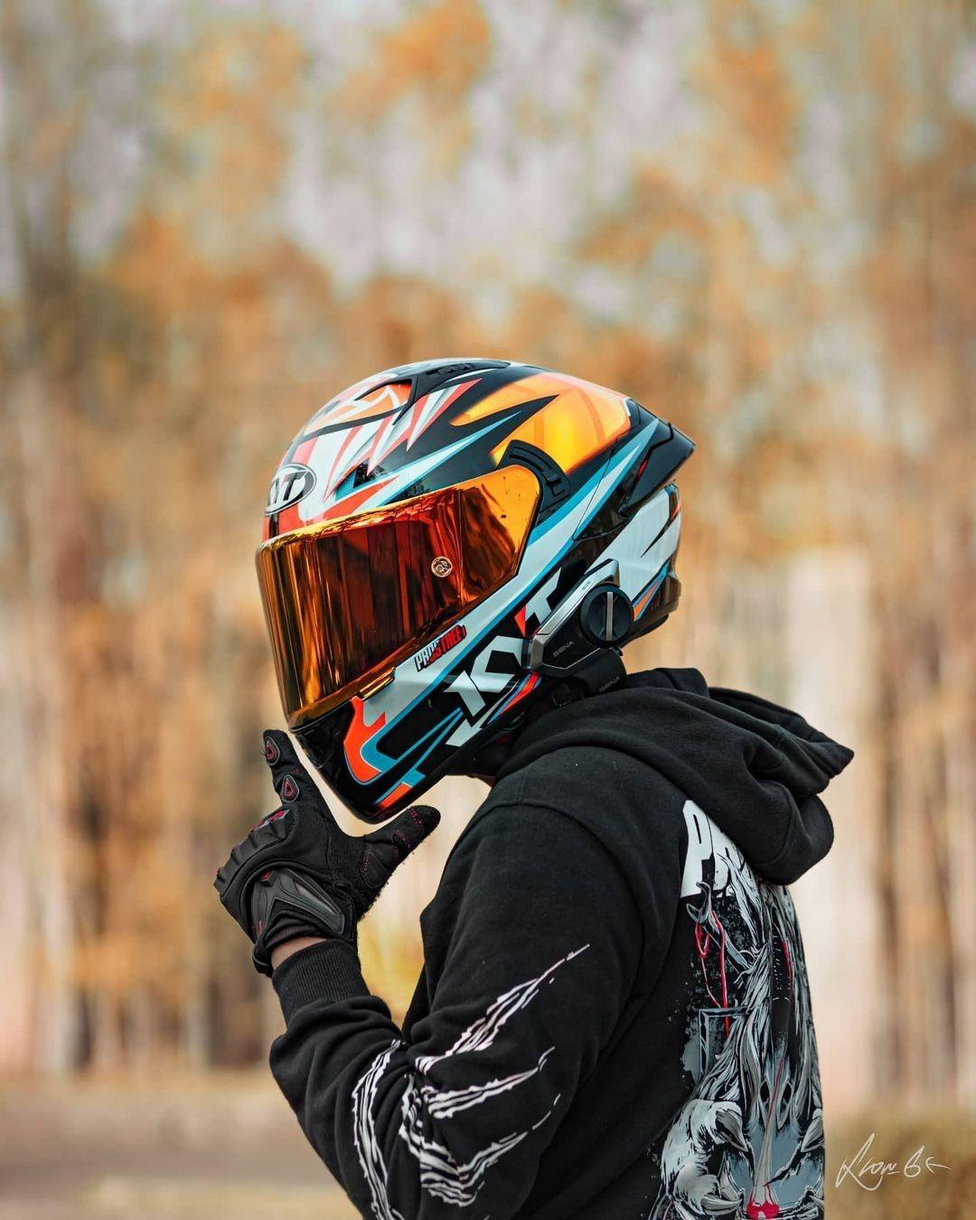Helmet: (258, 348, 695, 832)
